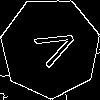V: (25, 22, 80, 73)
